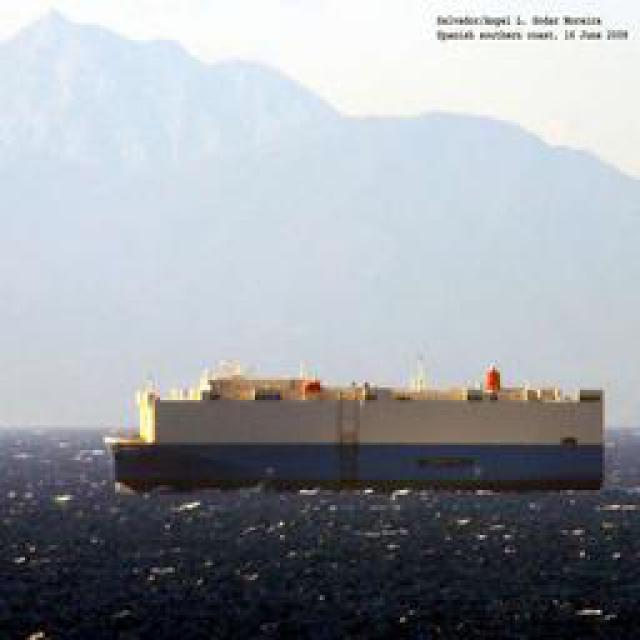Ship: (105, 366, 638, 496)
